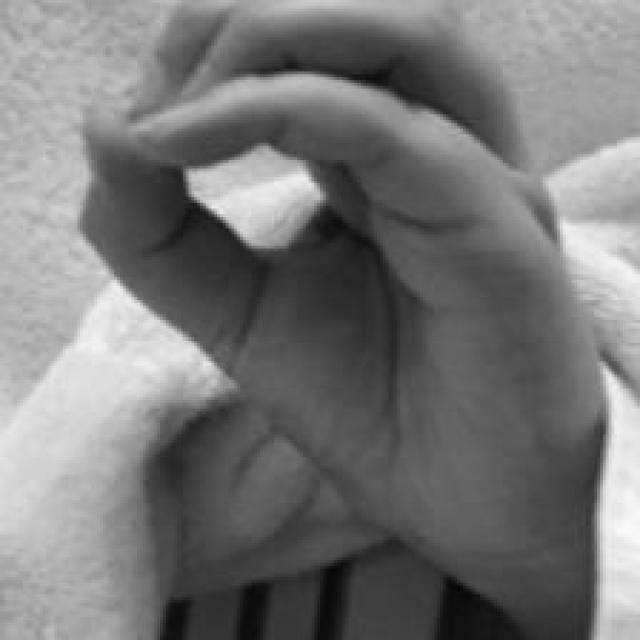O: (70, 0, 606, 640)
